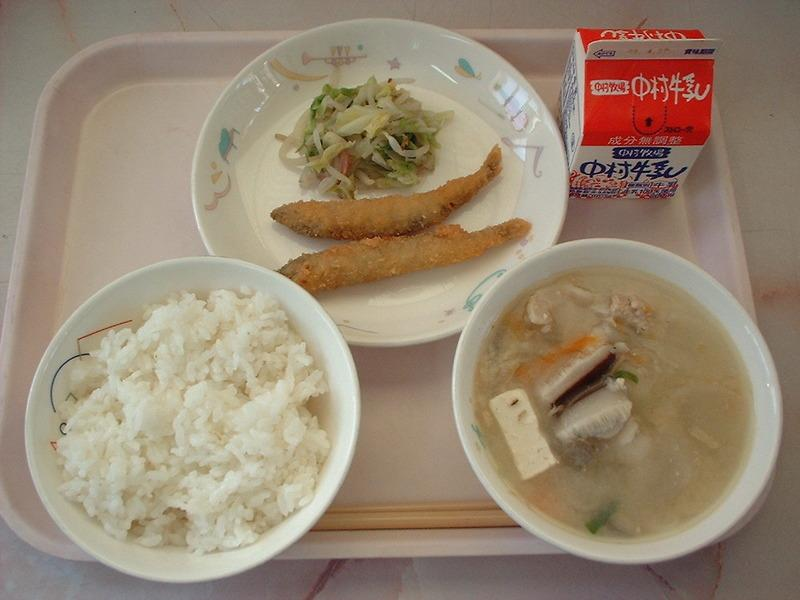plate: (191, 20, 567, 345)
rice: (58, 291, 331, 554)
